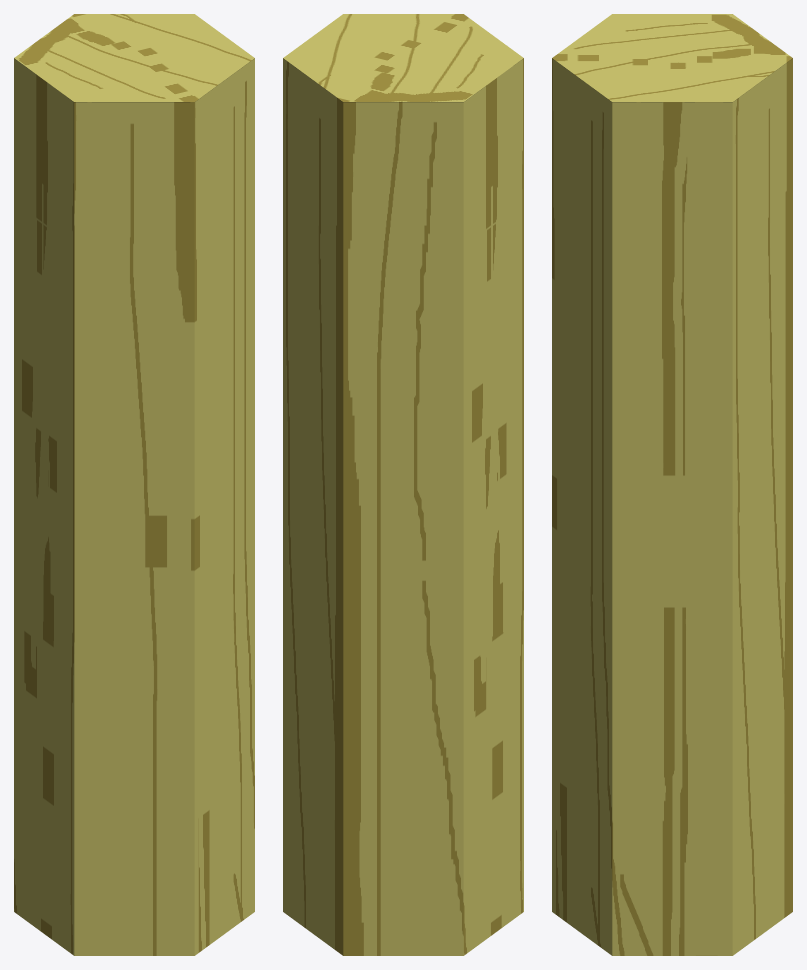
The model's file is palo.fbx.
The picture shows the model from 3 angles, left to right: view 1: azimuth 30°, elevation 25°; view 2: azimuth 150°, elevation 25°; view 3: azimuth 270°, elevation 25°; orthographic projection.
Parts seen in each view (by area): view 1: Cylinder; view 2: Cylinder; view 3: Cylinder.
Boxes of the visible parts, box(x1,y1,x2,y2) form: Cylinder: box(14, 14, 254, 955); Cylinder: box(283, 14, 523, 955); Cylinder: box(552, 14, 792, 955).
Bounding box in the file's own units: 42.84 × 194 × 49.47.
